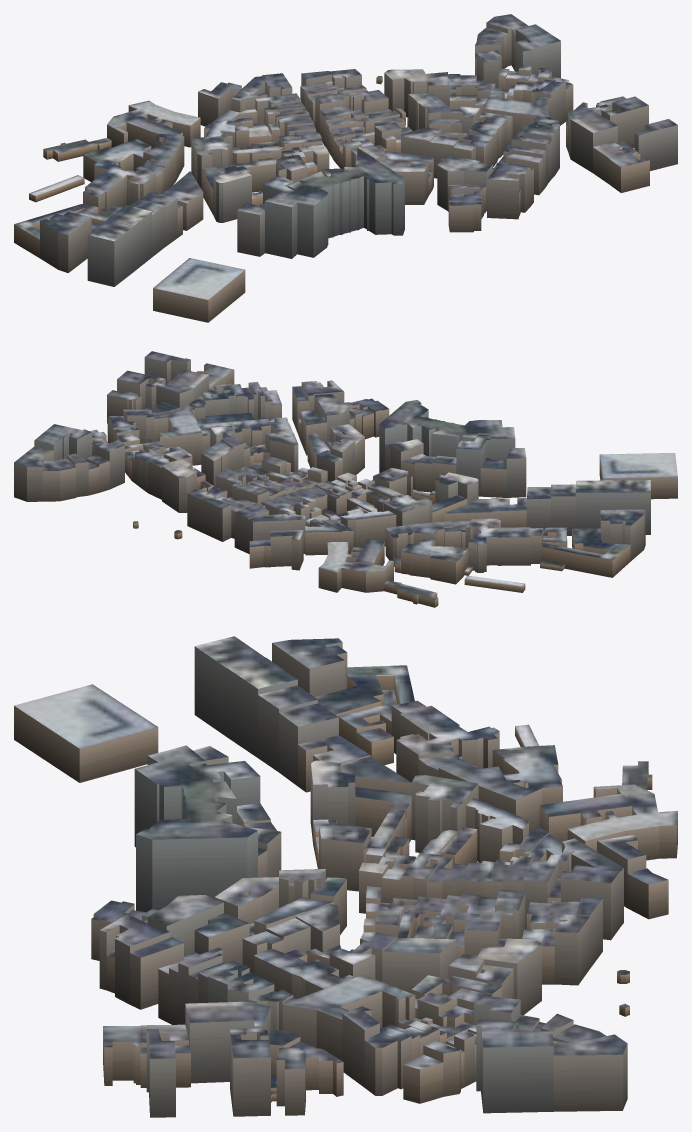
3 renders of one model, top to bottom at view 1: azimuth 30°, elevation 25°; view 2: azimuth 150°, elevation 25°; view 3: azimuth 270°, elevation 25°, orthographic. The views are drawn at different scales.
Bounding box in the file's own units: 341 × 29.23 × 225.
Materials: 2 (2 with a texture image).
